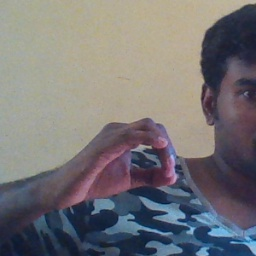O: (64, 111, 179, 208)
